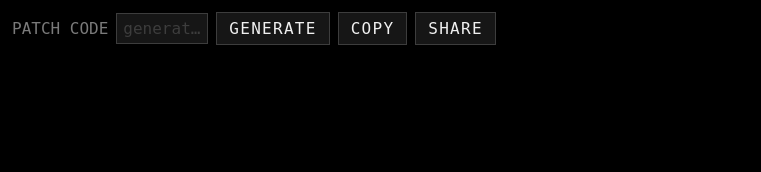
generating › reports a service it cannot reach instead of pretending
Click the button "GENERATE" at (273, 28), box [216,12,330,45]
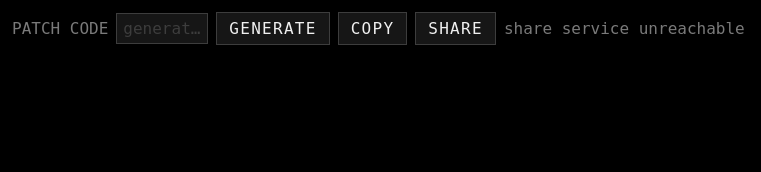
Expected: the field named "Patch code" is empty, [116,13,208,44]
Expected: the text "share service unreachable" is shown, [504,19,745,38]
